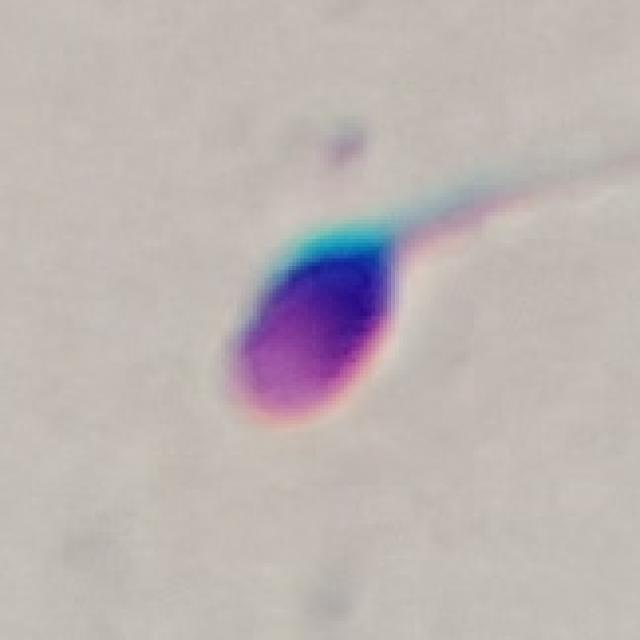normal sperm: (225, 192, 490, 417)
